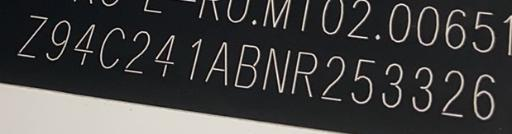letter: (260, 45, 294, 95), (14, 11, 48, 58), (288, 48, 318, 98), (348, 55, 378, 105), (439, 67, 467, 118), (122, 28, 152, 75), (470, 72, 498, 121), (232, 42, 260, 90), (318, 54, 346, 102), (380, 60, 406, 109), (151, 31, 177, 79), (204, 39, 230, 87), (44, 19, 72, 62), (98, 26, 126, 69), (410, 63, 434, 112), (72, 20, 96, 67), (187, 36, 203, 80)
